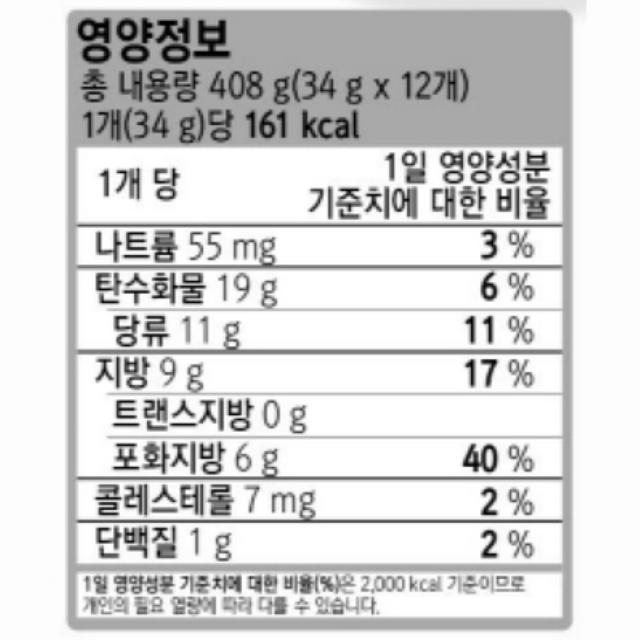Nutrition Label: (58, 3, 579, 638)
